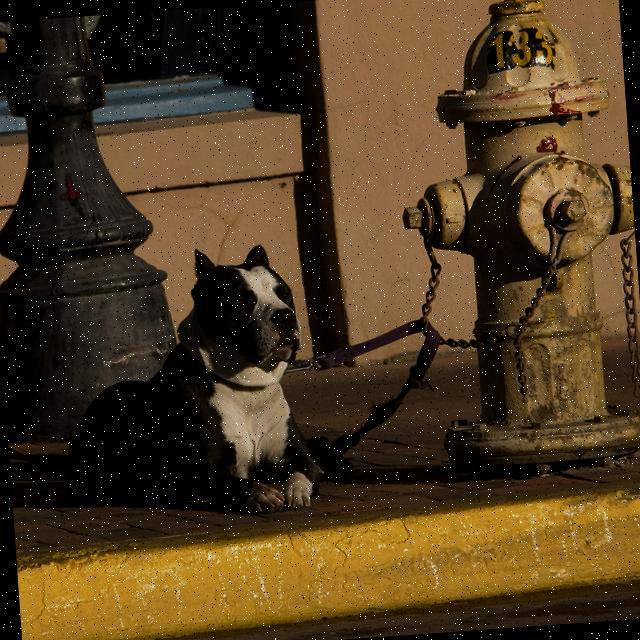fire_hydrant: (388, 0, 640, 483)
